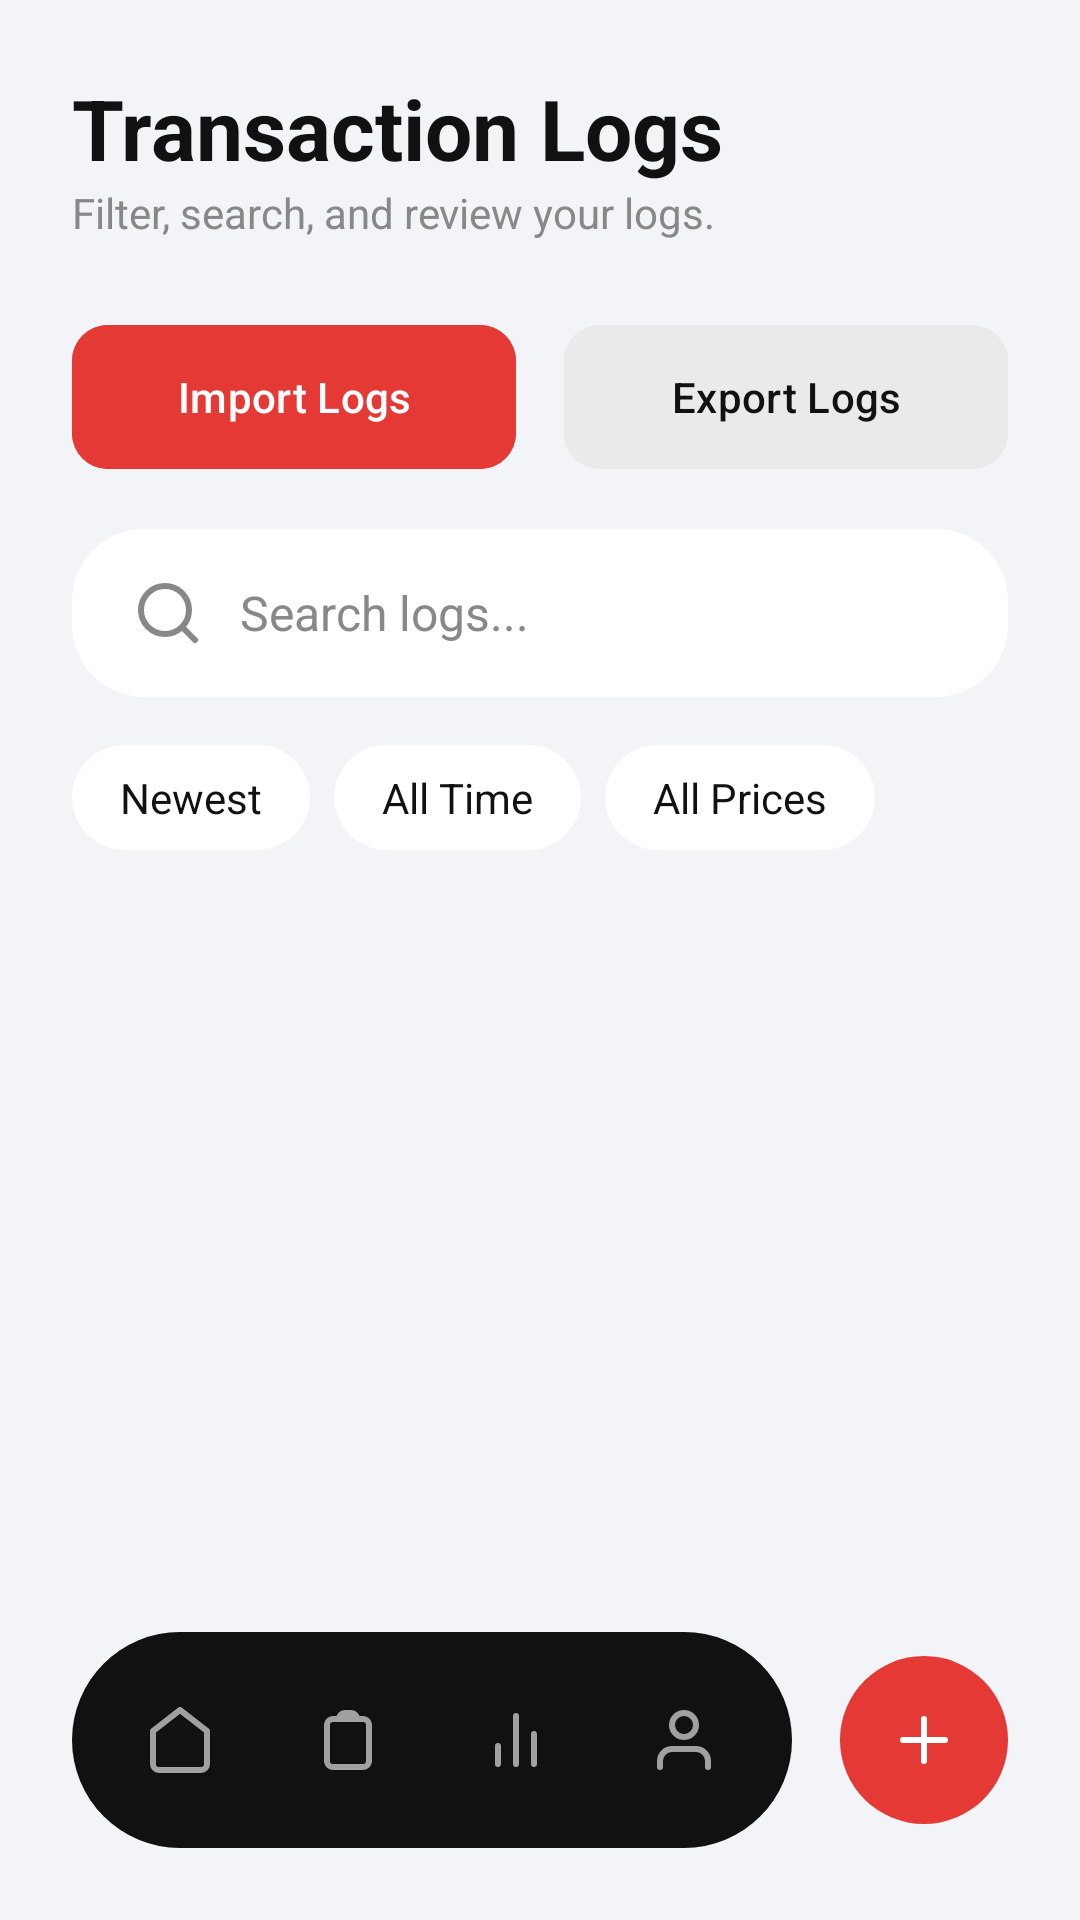

Where to tap for icons on this 1080w x 1920h app screen, as [x,y]:
add luxury: [924,1740]
home luxury: [180,1740]
logs pro: [348,1740]
profile luxury: [684,1740]
stats luxury: [516,1740]
